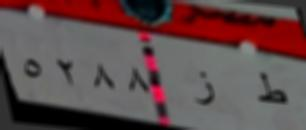2: (55, 55, 80, 93)
5: (12, 51, 48, 91)
8: (120, 65, 150, 102), (90, 63, 116, 97)
Taa: (248, 68, 291, 116)
zay: (189, 69, 217, 116)
